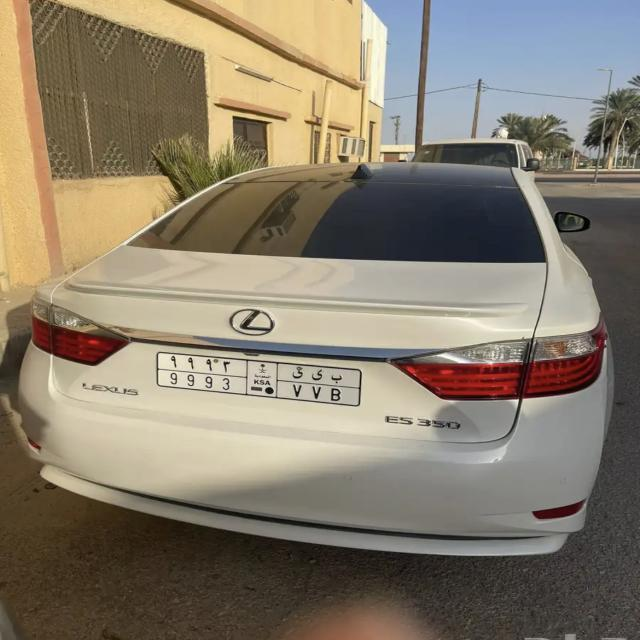license_plate: (157, 351, 360, 410)
